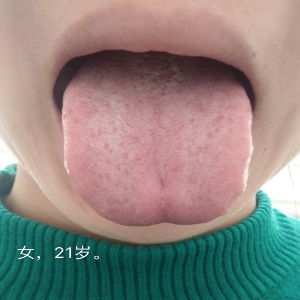st: (59, 77, 257, 219)
